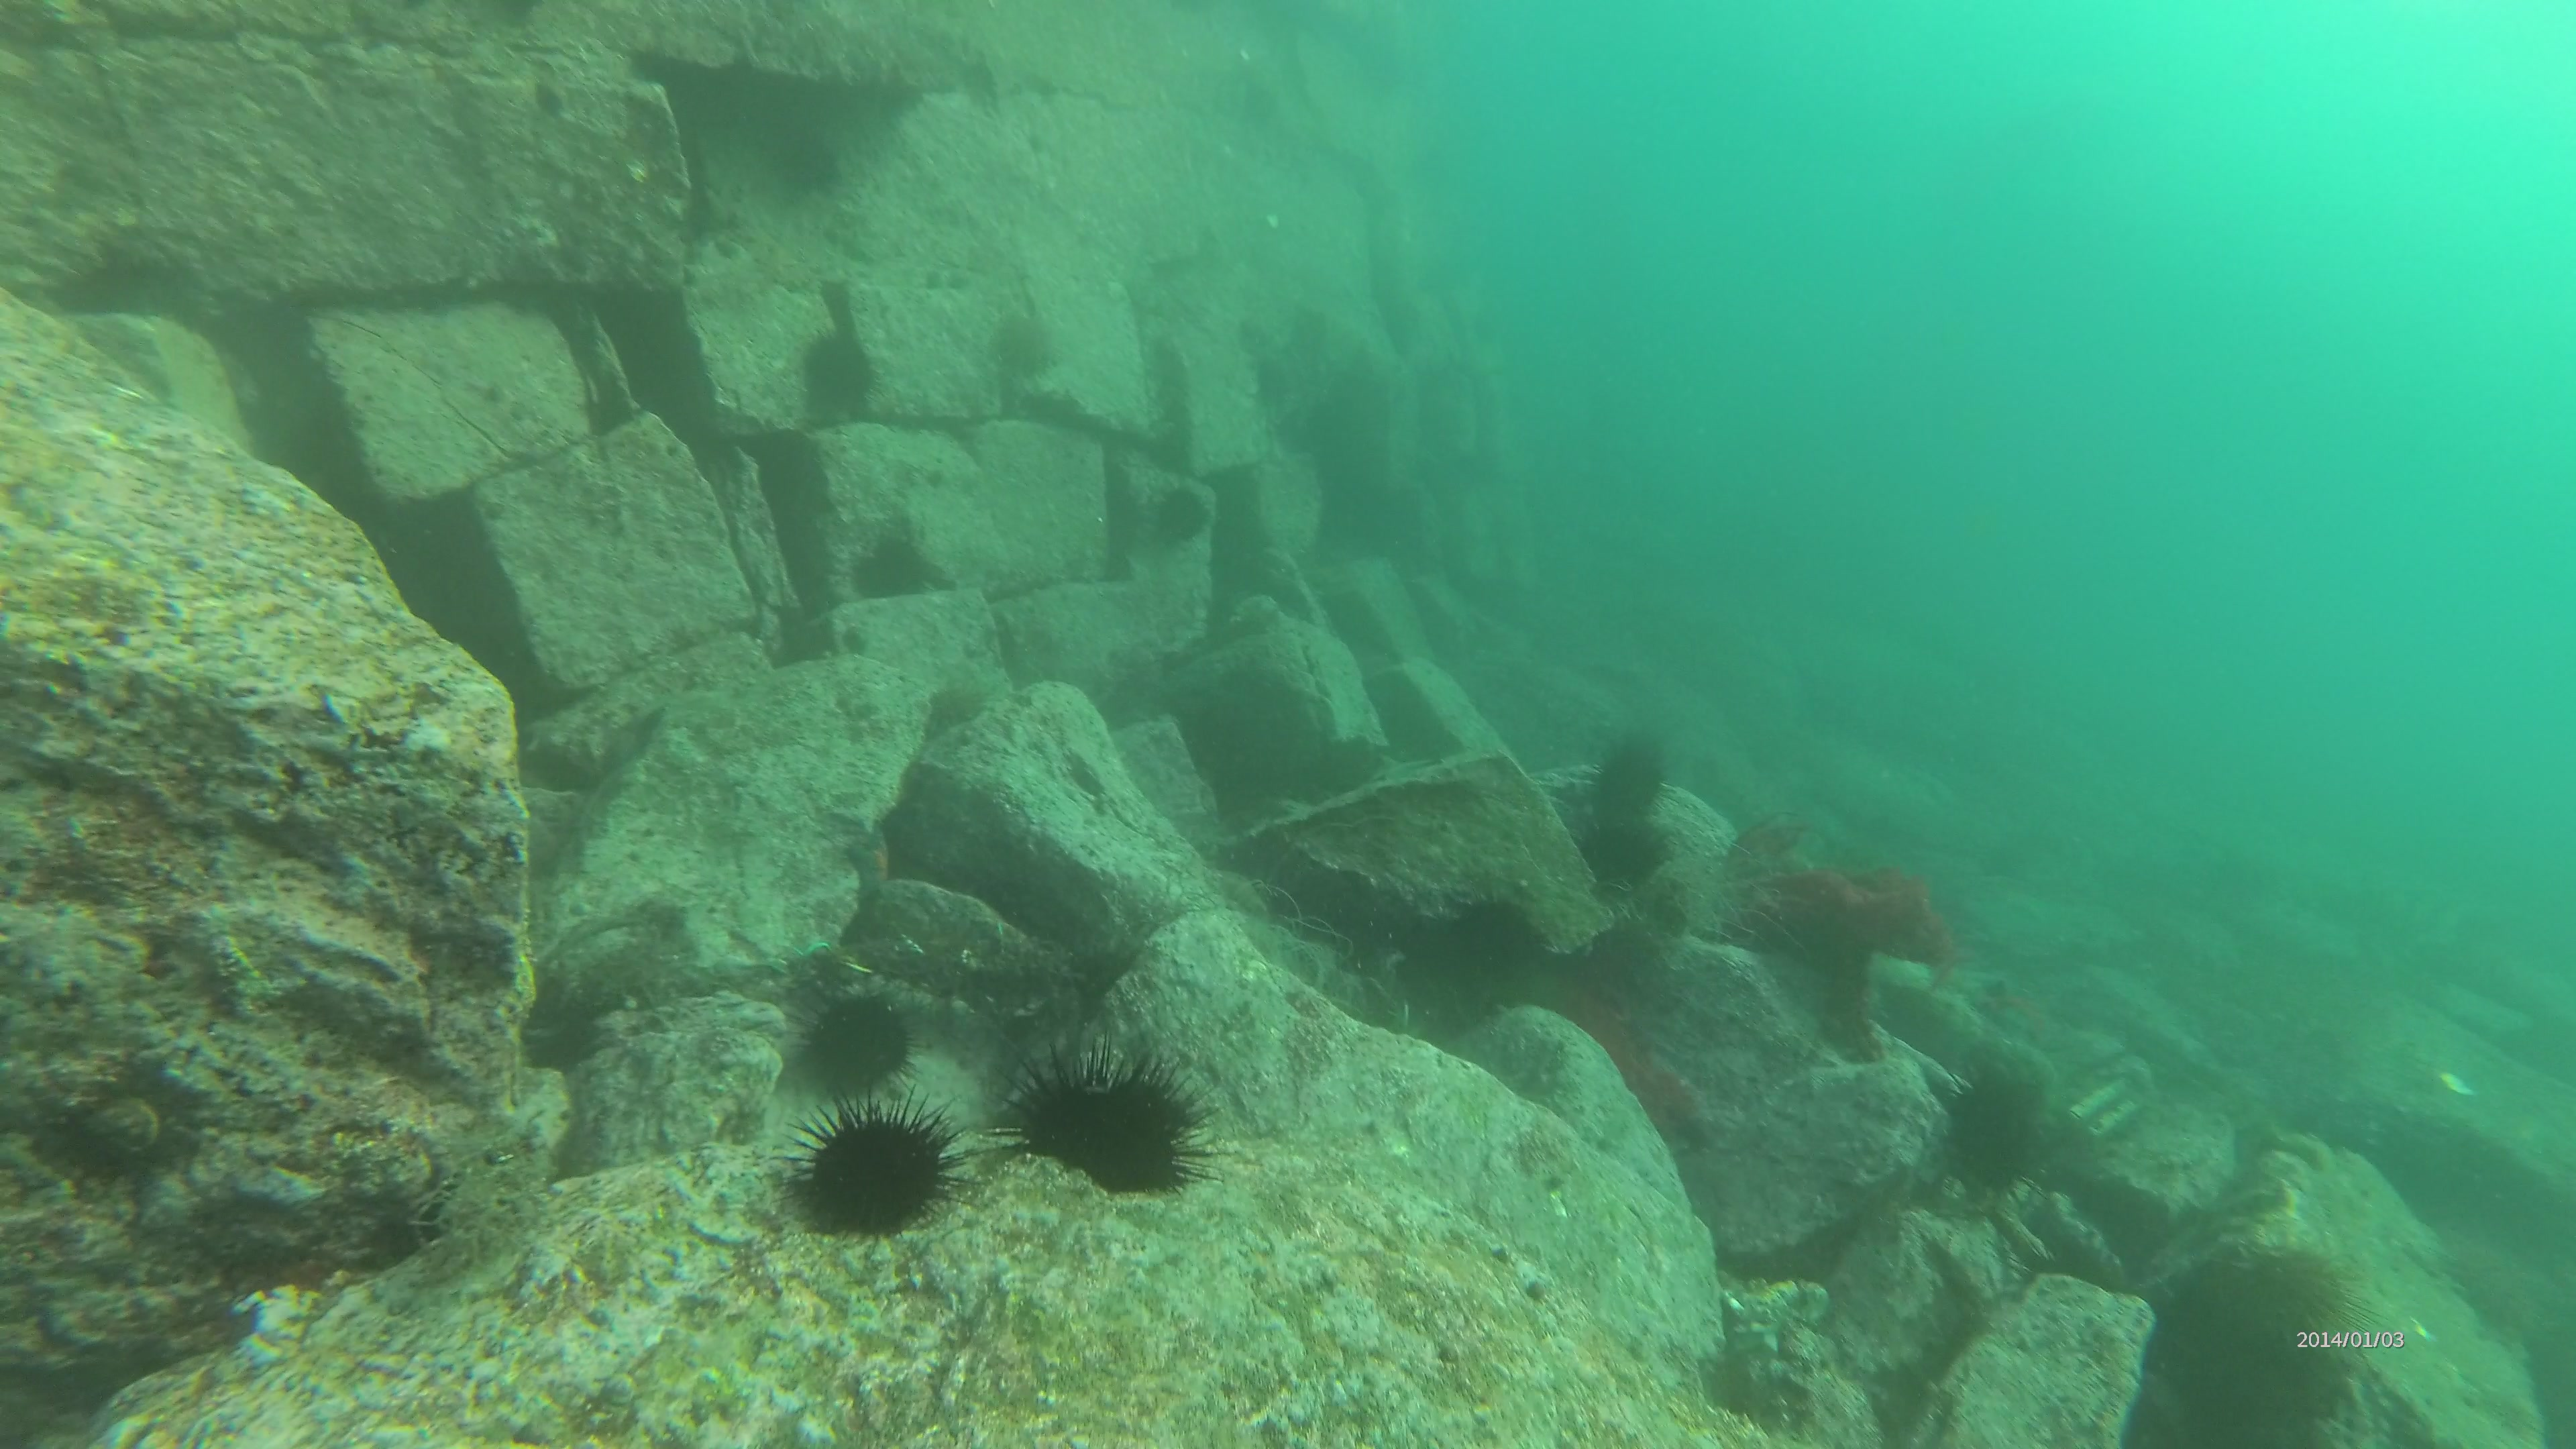echinus: (1010, 1044, 1196, 1198), (794, 1109, 955, 1231), (2233, 1237, 2350, 1339), (1944, 1077, 2038, 1200), (803, 991, 911, 1092), (1582, 731, 1663, 823), (1583, 816, 1675, 885), (1146, 485, 1215, 550)
